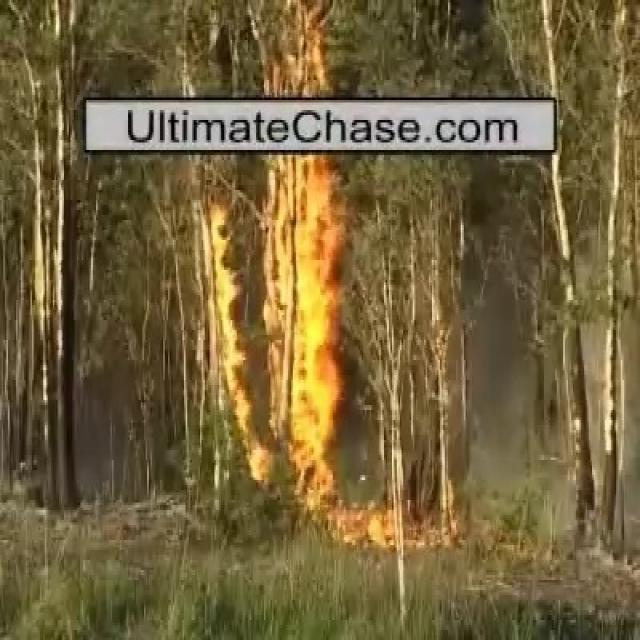fire: (274, 160, 332, 475), (339, 506, 384, 546)
